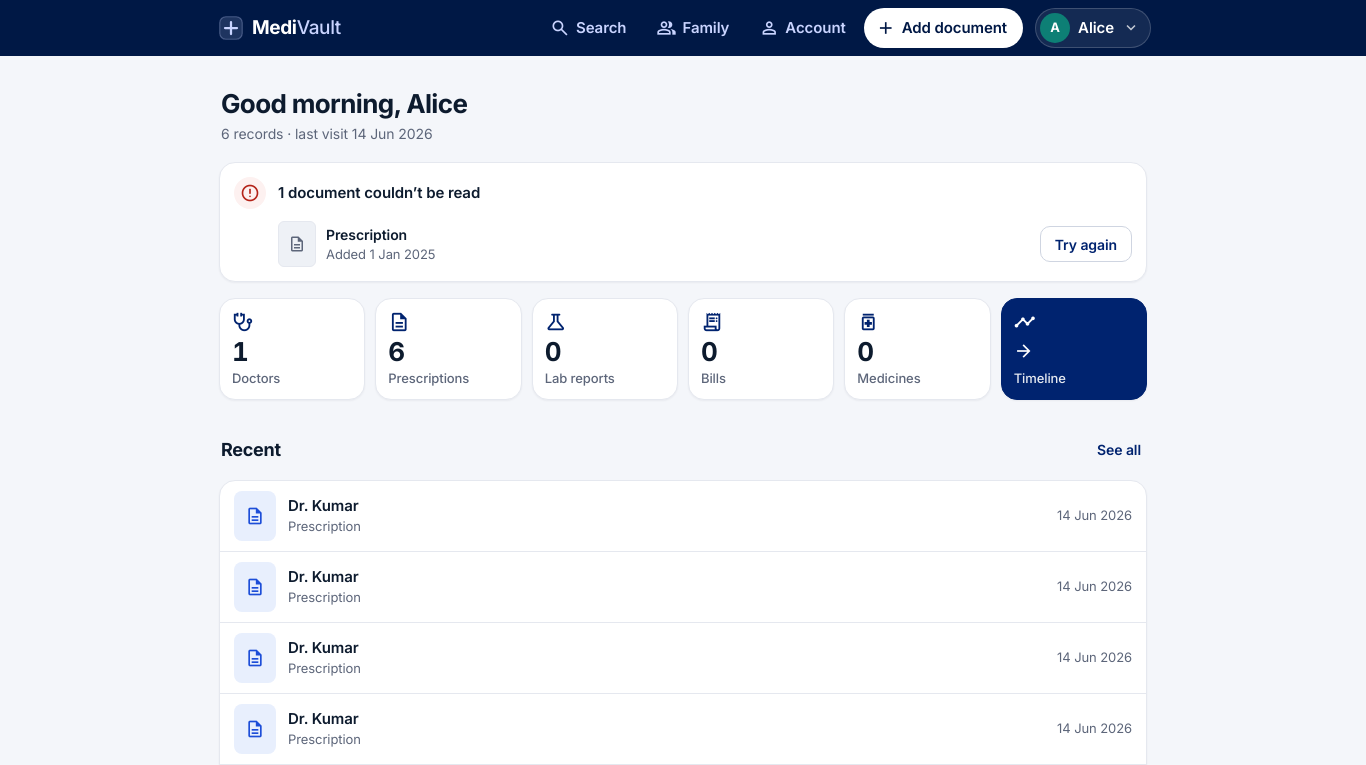
Test: an old unreadable document is listed where it can be acted on
Expected: the button "Try again" is shown, [1040,226,1132,262]
Step 1. Click the button "Prescription Added 1 Jan 2025" → (297, 244), box [274,217,1034,271]
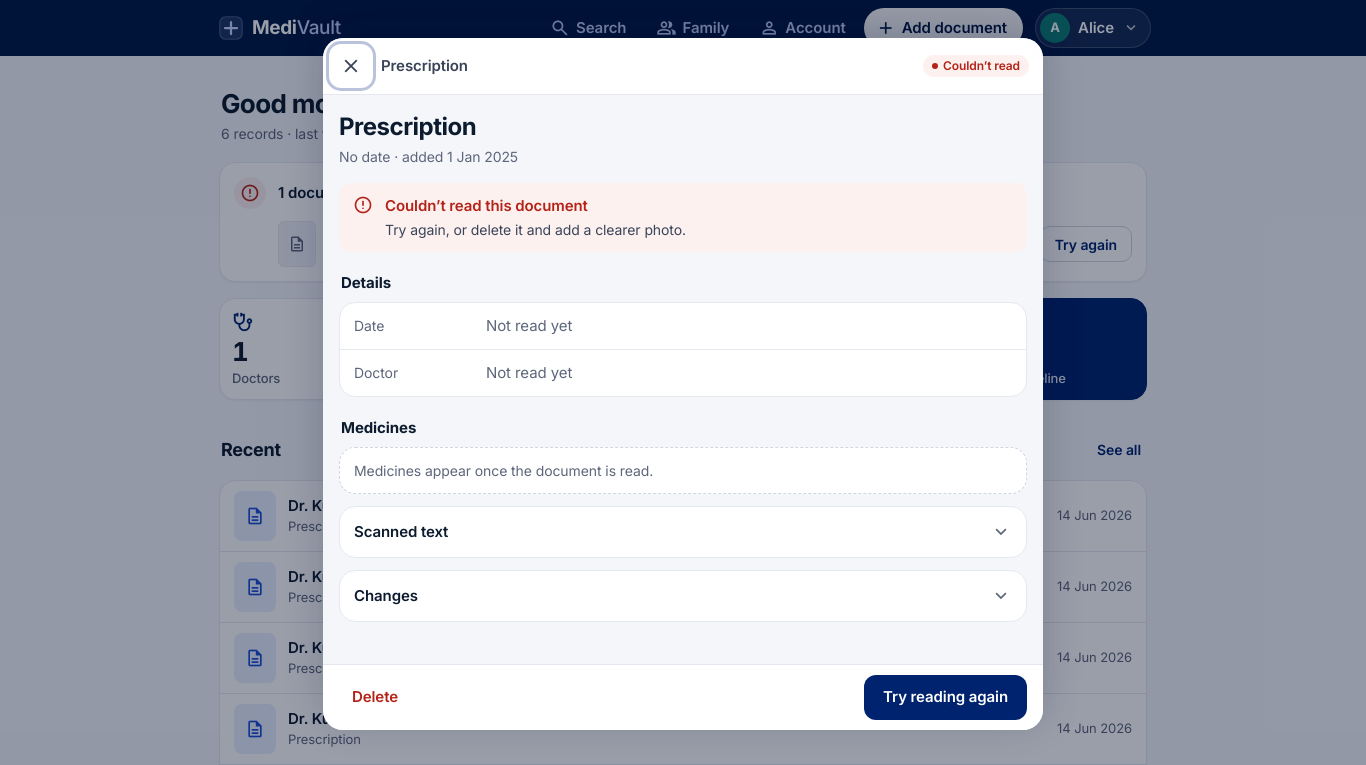
Expected: the dialog shows "couldn’t read this document", [385,196,588,215]
